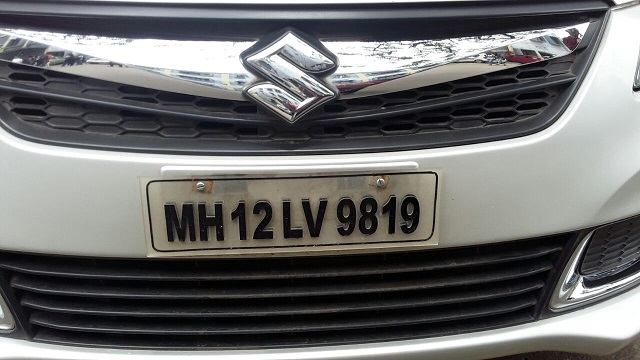licenseplate: (141, 167, 443, 256)
